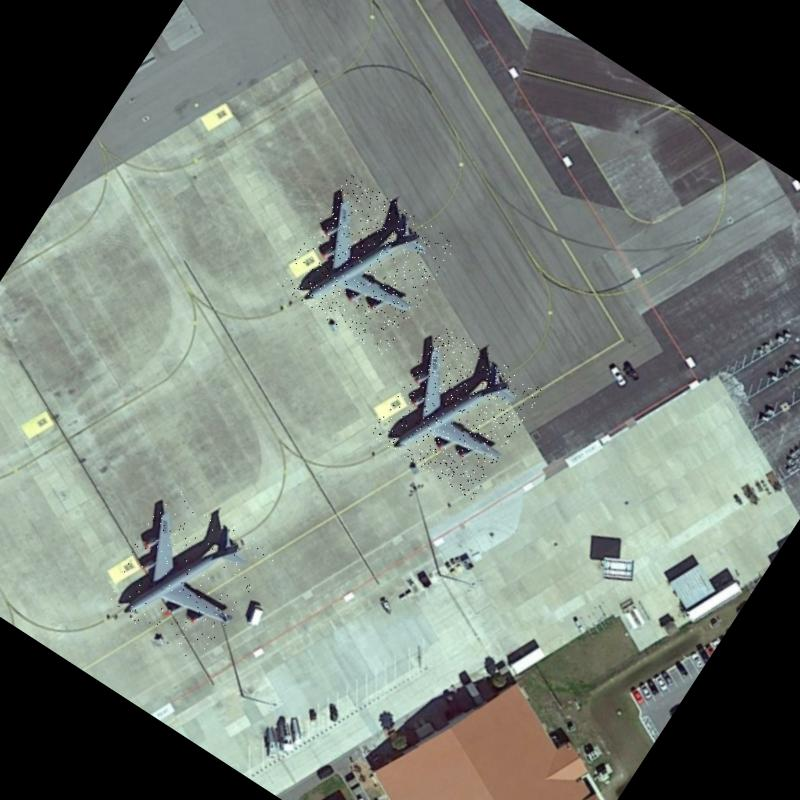A14: (276, 173, 458, 357), (98, 486, 278, 668), (369, 323, 544, 501)
